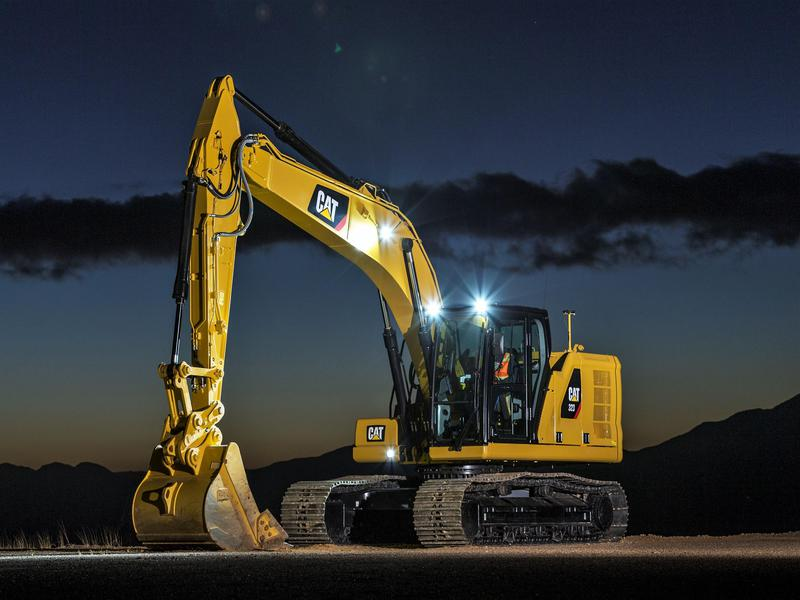shovel: (124, 50, 637, 545)
